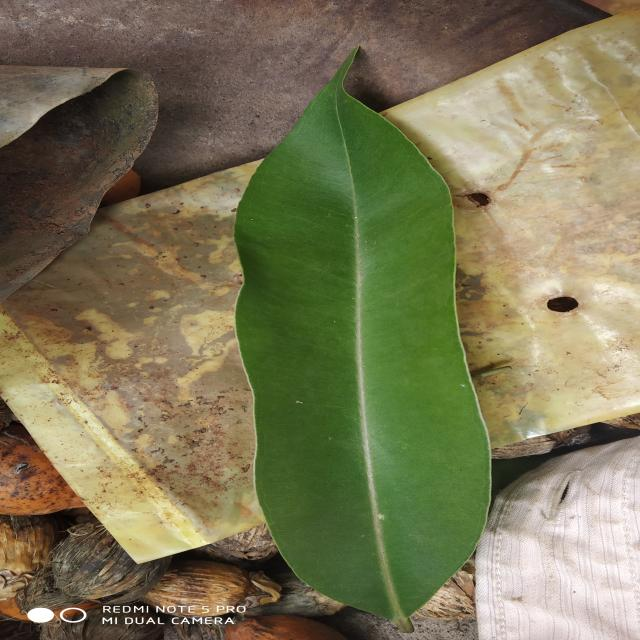nerale: (236, 51, 491, 632)
